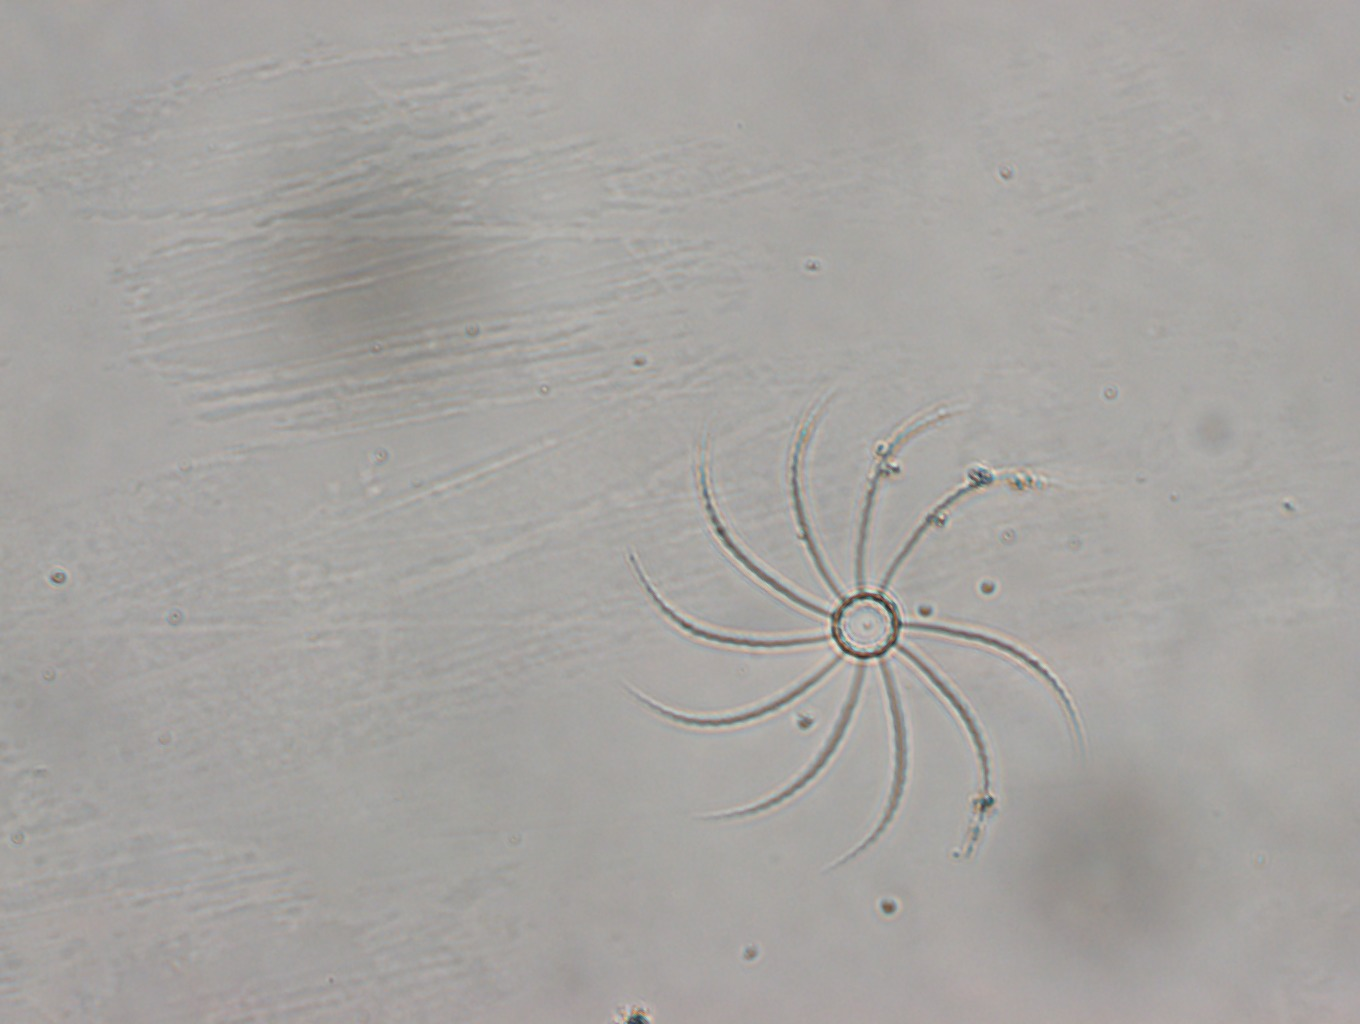bacteriastrum: (614, 381, 1100, 883)
